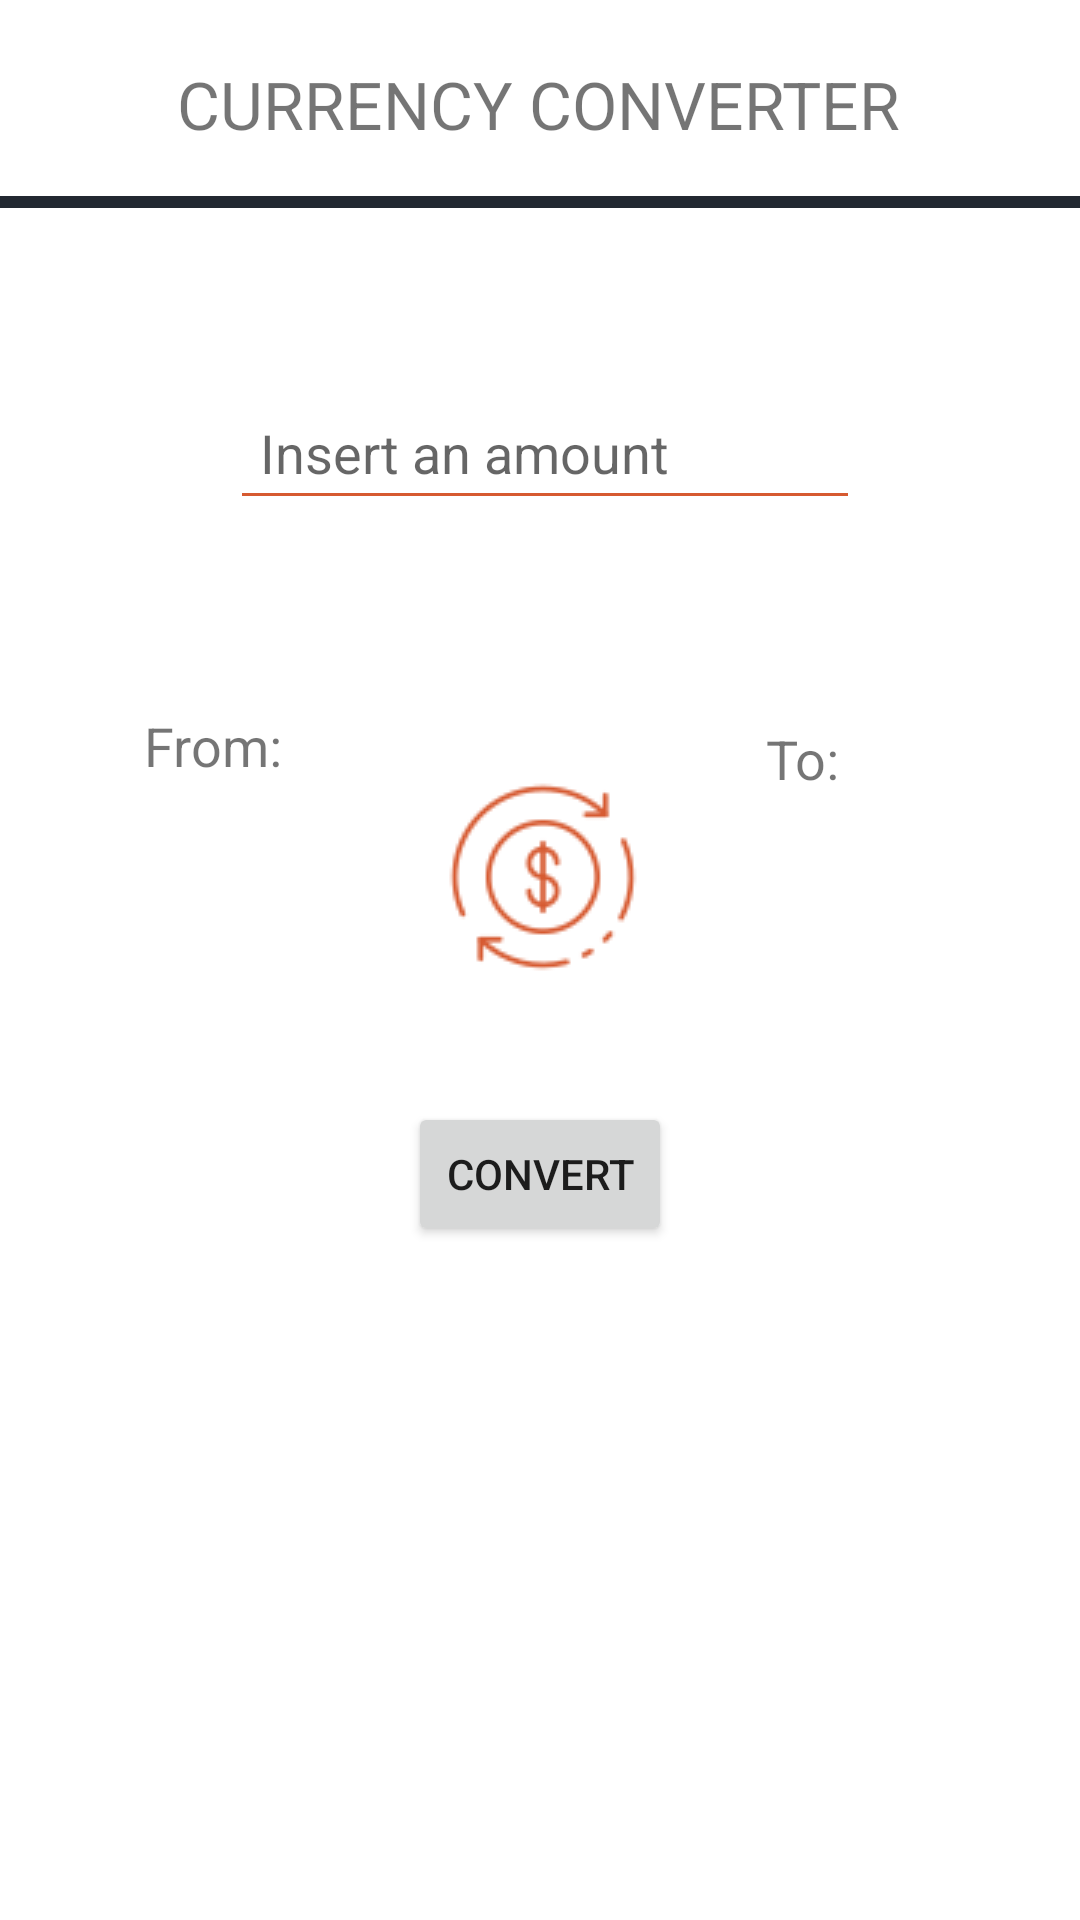

Point at icon controls on the screen. Image size 1080px×1920px, points as [x,y].
dollar: [543,877]
